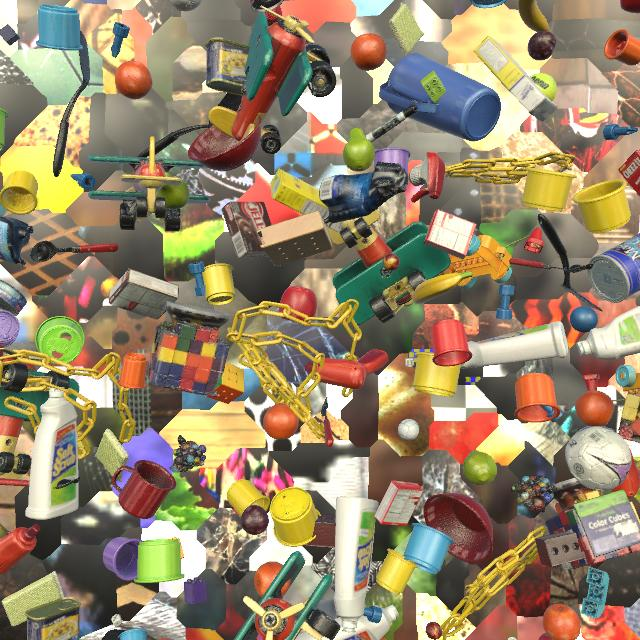ycb_002_master_chef_can: (588, 233, 640, 303)
ycb_003_cracker_box: (618, 150, 640, 197)
ycb_004_sugar_box: (474, 36, 558, 122), (270, 169, 343, 232)
ycb_005_tomato_soup_can: (250, 0, 284, 12)
ycb_007_tuna_fish_can: (0, 279, 27, 316)
ycb_008_pudding_box: (109, 268, 179, 320), (222, 201, 272, 259)
ycb_009_gelatin_box: (423, 209, 477, 259), (374, 480, 423, 526)
ycb_010_potted_meat_can: (205, 37, 250, 96), (25, 597, 81, 640)
ycb_011_banana: (412, 271, 473, 304), (517, 0, 549, 32)
ycb_012_strawberry: (262, 5, 282, 26)
ycb_013_apple: (279, 286, 317, 322), (620, 0, 640, 13), (538, 633, 552, 640)
ycb_016_pear: (343, 128, 375, 172), (156, 172, 190, 210), (463, 450, 497, 485)
ycb_017_orange: (115, 61, 153, 99), (350, 33, 387, 71), (575, 390, 614, 426), (543, 604, 581, 640), (254, 561, 291, 597), (263, 403, 299, 439), (158, 638, 173, 640)
ycb_018_plum: (240, 505, 269, 535), (528, 31, 556, 61)
